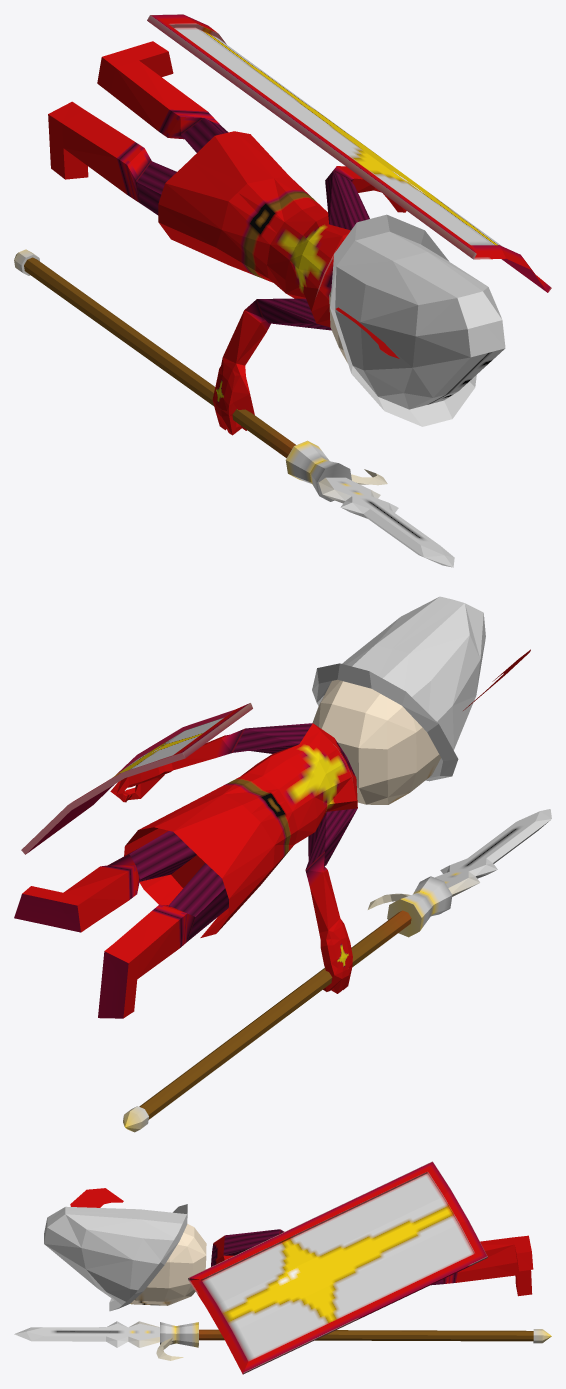
Rendered from soldier_heroic.obj.
The picture shows the model from 3 angles, top to bottom: view 1: azimuth 30°, elevation 25°; view 2: azimuth 150°, elevation 25°; view 3: azimuth 270°, elevation 25°; orthographic projection. The views are drawn at different scales.
Visible parts, largest first — view 1: Cube.000; view 2: Cube.000; view 3: Cube.000.
Part boxes in pixels (x1,y1,x2,y2): Cube.000: (14, 14, 551, 567); Cube.000: (14, 596, 551, 1132); Cube.000: (14, 1161, 551, 1374).
Size of the model in its own units: 5.61 by 5.27 by 13.
3 materials, 3 textured.
